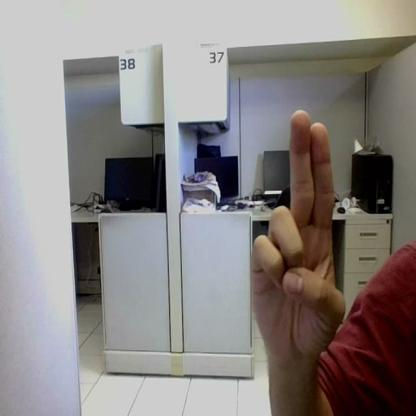U: (252, 111, 345, 348)
